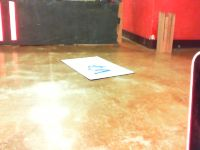switch: (9, 1, 17, 41), (1, 2, 4, 41)
